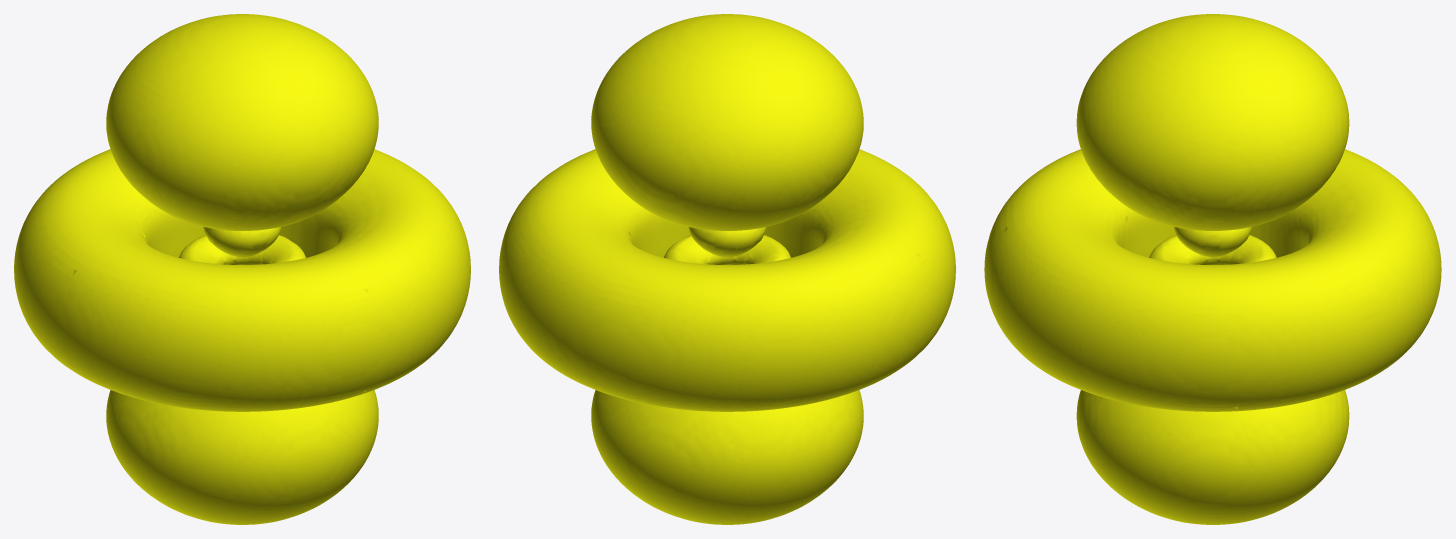
File: orb_n=4_ l=2 _m=0.fbx
The picture shows the model from 3 angles, left to right: view 1: azimuth 30°, elevation 25°; view 2: azimuth 150°, elevation 25°; view 3: azimuth 270°, elevation 25°; orthographic projection.
Parts seen in each view (by area): view 1: orb_n=4_ l=2 _m=0; view 2: orb_n=4_ l=2 _m=0; view 3: orb_n=4_ l=2 _m=0.
Part boxes in pixels (x1,y1,x2,y2): orb_n=4_ l=2 _m=0: [14, 14, 470, 524]; orb_n=4_ l=2 _m=0: [499, 14, 955, 524]; orb_n=4_ l=2 _m=0: [984, 14, 1441, 524].
Bounding box in the file's own units: 6841 × 7924 × 6841.
